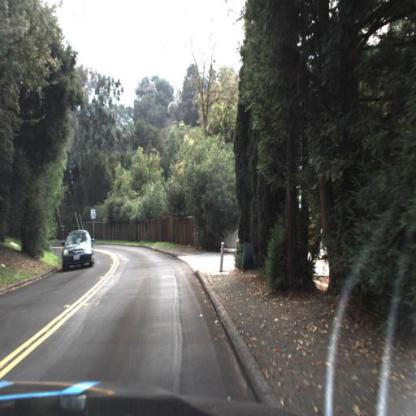car: (59, 227, 97, 272)
